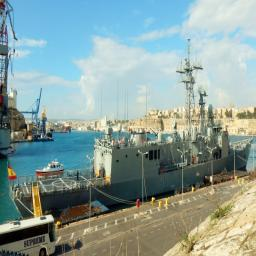Fragata: (12, 36, 256, 241)
